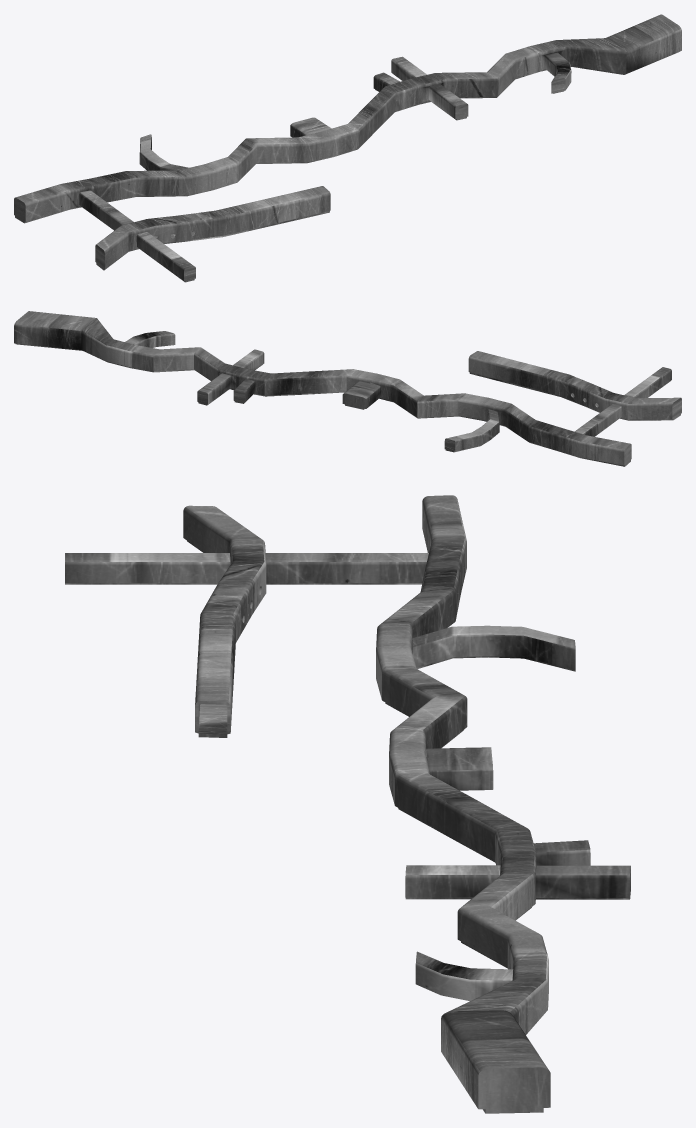
The model's file is Tunnel fail.fbx.
3 views of the same model, one above another, from view 1: azimuth 30°, elevation 25°; view 2: azimuth 150°, elevation 25°; view 3: azimuth 270°, elevation 25° (orthographic). The views are drawn at different scales.
Visible parts, largest first — view 1: Plane.001; view 2: Plane.001; view 3: Plane.001.
Boxes of the visible parts, box(x1,y1,x2,y2) form: Plane.001: box(14, 14, 681, 282); Plane.001: box(14, 311, 681, 466); Plane.001: box(65, 495, 630, 1113).
Size of the model in its own units: 7610 by 284 by 3169.
